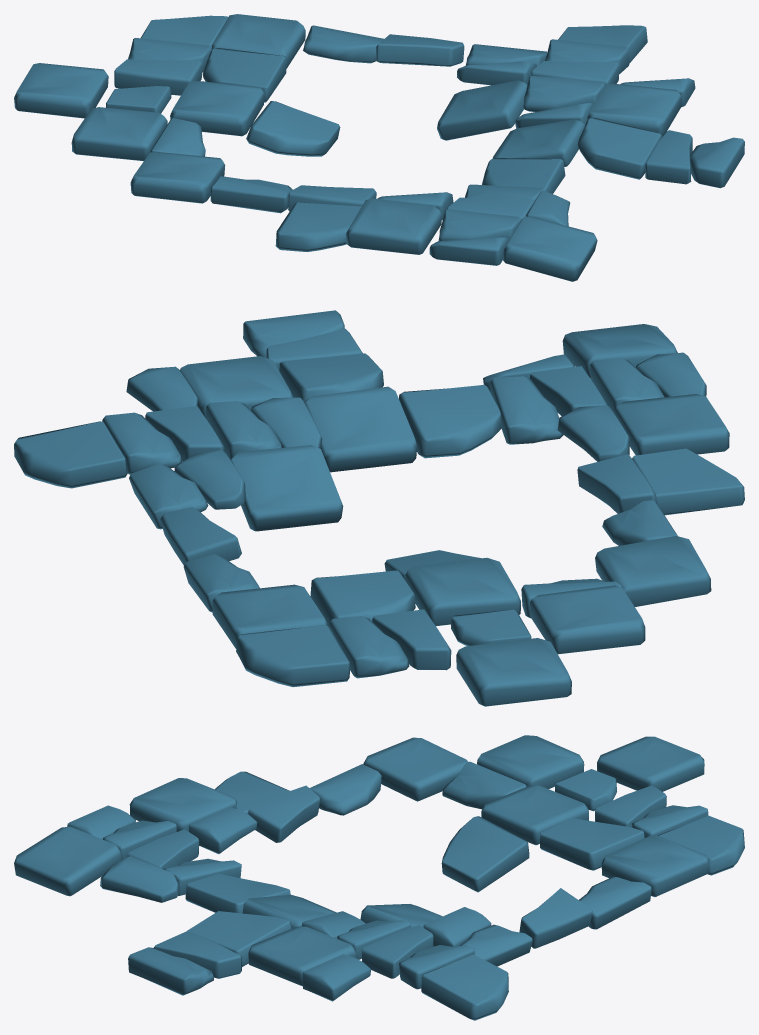
The model's file is Floor_Break_03C_Lod0.fbx.
3 views of the same model, one above another, from view 1: azimuth 30°, elevation 25°; view 2: azimuth 150°, elevation 25°; view 3: azimuth 270°, elevation 25° (orthographic). The views are drawn at different scales.
Parts seen in each view (by area): view 1: Floor_Break_03C_Lod0; view 2: Floor_Break_03C_Lod0; view 3: Floor_Break_03C_Lod0.
Part boxes in pixels (<box>): Floor_Break_03C_Lod0: <box>14,14,744,281</box>; Floor_Break_03C_Lod0: <box>14,310,744,706</box>; Floor_Break_03C_Lod0: <box>14,735,744,1020</box>.
Bounding box in the file's own units: 409 × 37.78 × 470.
